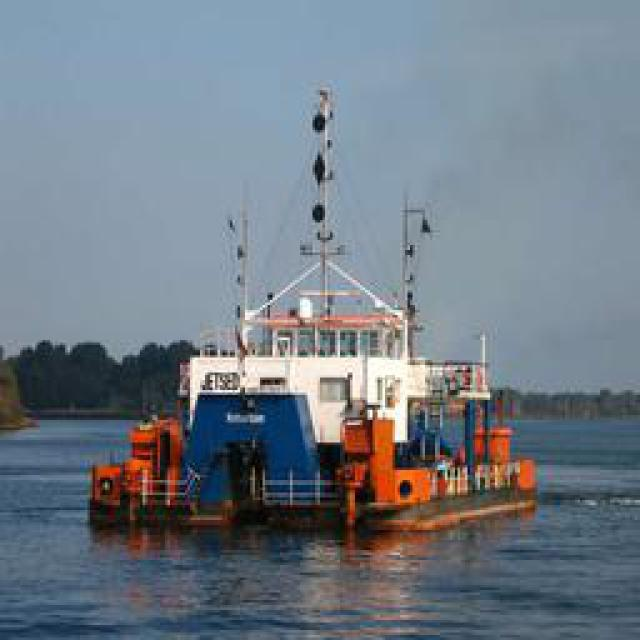Ship: (104, 88, 537, 533)
